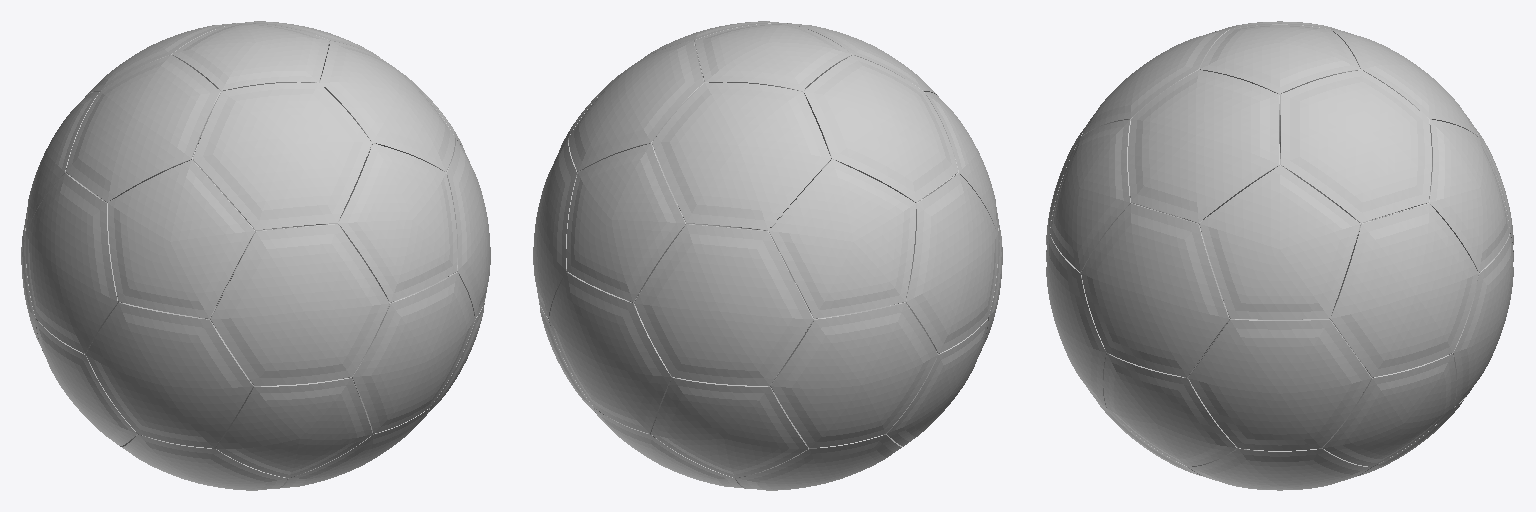
File: soccer.obj
The picture shows the model from 3 angles: view 1: azimuth 30°, elevation 25°; view 2: azimuth 150°, elevation 25°; view 3: azimuth 270°, elevation 25°; orthographic projection.
Visible parts, largest first — view 1: Soccer_Ball; view 2: Soccer_Ball; view 3: Soccer_Ball.
Part boxes in pixels (x1,y1,x2,y2): Soccer_Ball: (21,21,490,490); Soccer_Ball: (533,21,1002,490); Soccer_Ball: (1046,21,1513,490).
Size of the model in its own units: 0.2386 by 0.2395 by 0.2376.